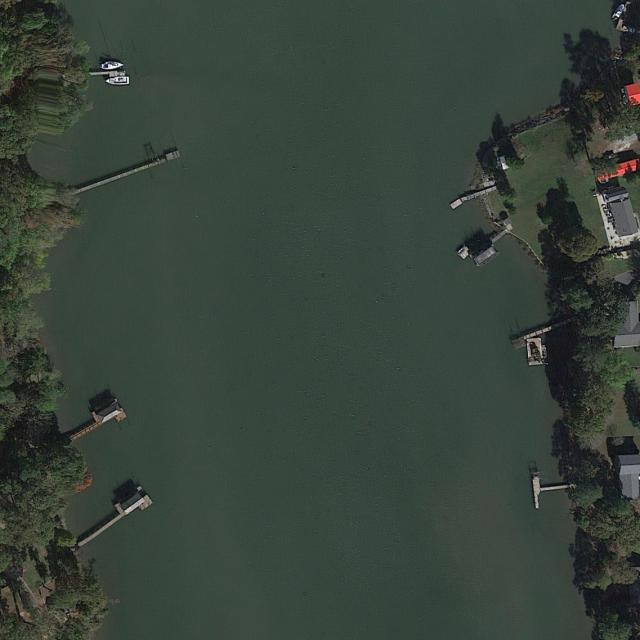ship: (611, 2, 626, 23), (106, 76, 130, 87), (101, 61, 124, 70)
small-vehicle: (621, 24, 637, 35)
